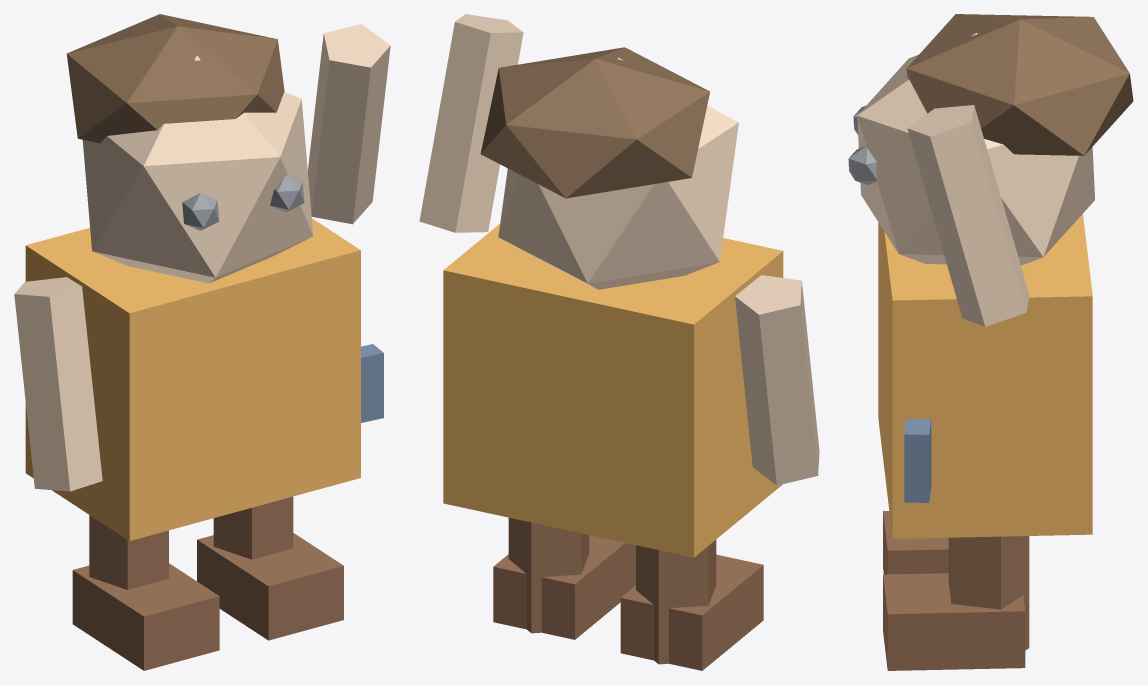
Rendered from npcpose_villager_wave_10.glb.
3 renders of one model, left to right at view 1: azimuth 30°, elevation 25°; view 2: azimuth 150°, elevation 25°; view 3: azimuth 270°, elevation 25°, orthographic. The views are drawn at different scales.
Visible parts, largest first — view 1: npcpose; view 2: npcpose; view 3: npcpose.
Boxes of the visible parts, left/top/right/bottom form: npcpose: left=14, top=14, right=390, bottom=670; npcpose: left=419, top=14, right=819, bottom=670; npcpose: left=848, top=14, right=1133, bottom=670.
Size of the model in its own units: 0.6949 by 1.06 by 0.4552.
